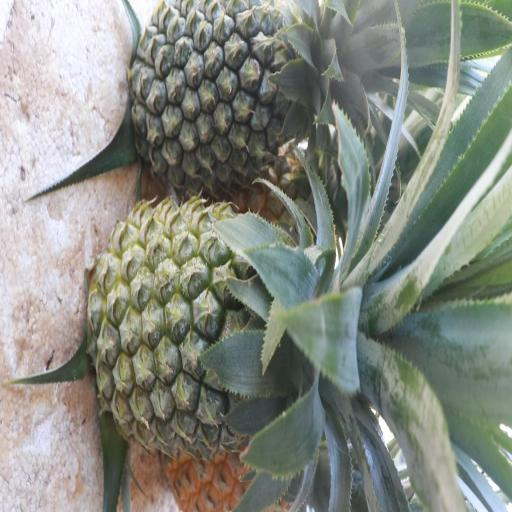------------------------------: (90, 208, 335, 451)
